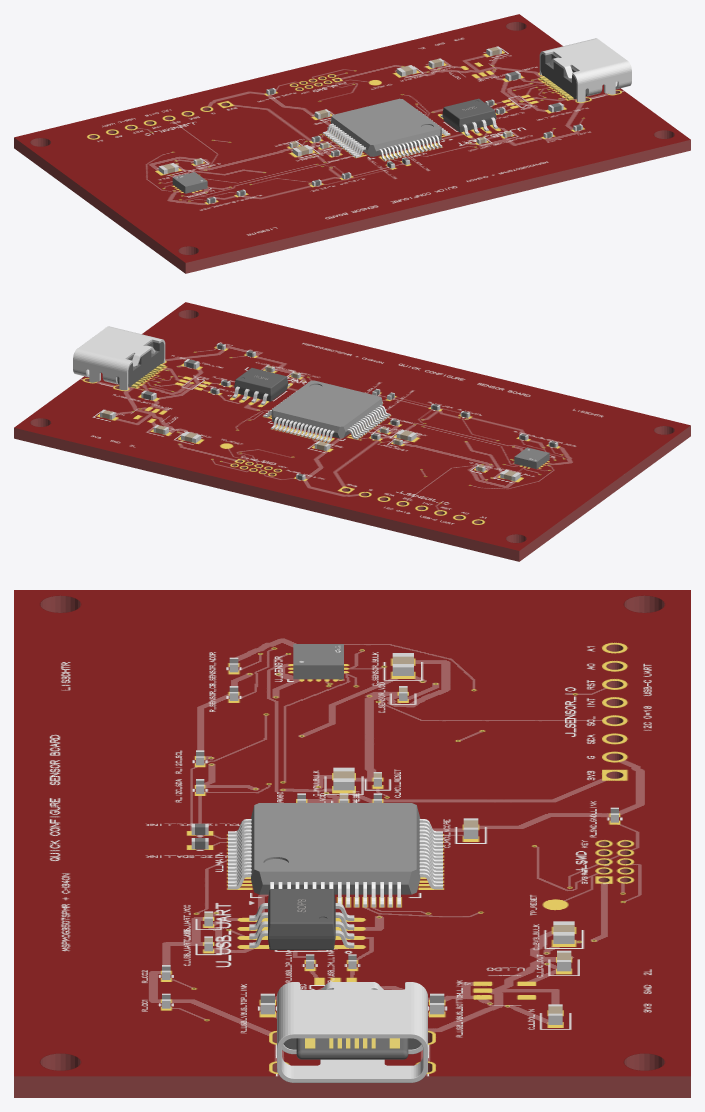
3 renders of one model, top to bottom at view 1: azimuth 30°, elevation 25°; view 2: azimuth 150°, elevation 25°; view 3: azimuth 270°, elevation 25°, orthographic. The views are drawn at different scales.
Visible parts, largest first — view 1: Box0, U_MAIN, J_USB, U_USB_UART, U_SENSOR; view 2: Box0, U_MAIN, J_USB, U_USB_UART, U_SENSOR; view 3: Box0, U_MAIN, J_USB, U_USB_UART, U_SENSOR.
Boxes of the visible parts, x1,y1,x2,y2 form: Box0: (14,14,690,273); U_MAIN: (322,98,450,161); J_USB: (539,38,631,102); U_USB_UART: (440,98,498,135); U_SENSOR: (172,172,207,193); Box0: (14,302,690,561); U_MAIN: (263,380,390,442); J_USB: (73,326,165,390); U_USB_UART: (232,368,290,404); U_SENSOR: (514,447,549,469); Box0: (14,590,690,1097); U_MAIN: (228,803,442,907); J_USB: (277,982,427,1082); U_USB_UART: (249,889,354,949); U_SENSOR: (293,644,343,679).
Size of the model in its own units: 69.04 by 4.65 by 40.
Materials: 19 (2 with a texture image).
